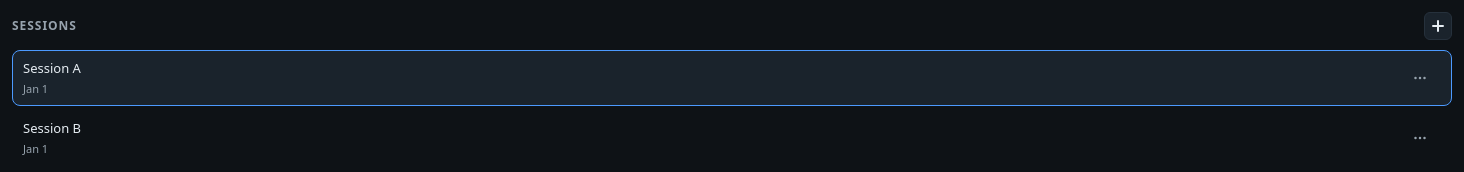
Scenario: session action reveal › keeps only one row open at a time
Click the 1st button with class "session-actions-trigger": (1420,78) [1394,64,1446,92]
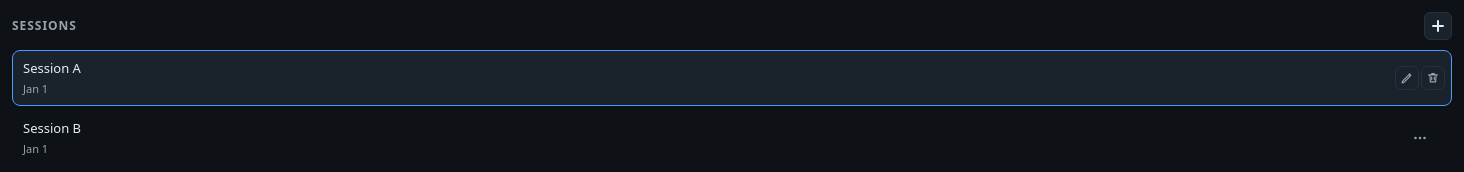
Click the button with class "session-actions-trigger": (1420,138) [1394,124,1446,152]
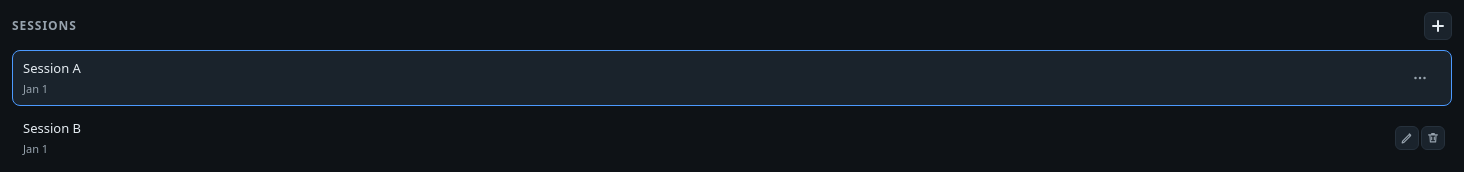
Expected: the element with class "session-actions--open" is shown, [1394,124,1446,152]
